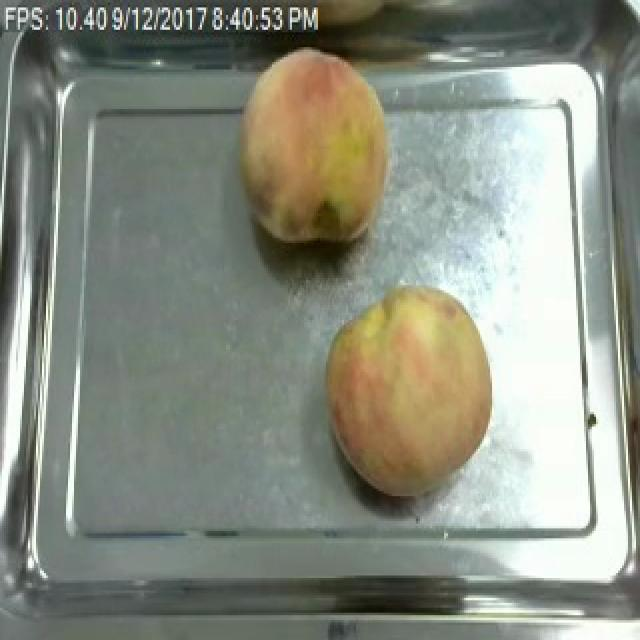Fruit: (318, 278, 502, 501), (230, 39, 402, 256)
